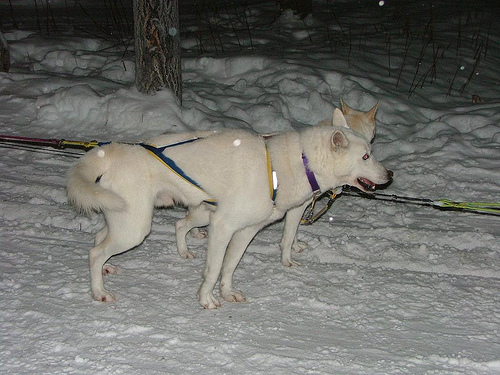dog: (64, 103, 394, 306), (174, 99, 380, 270)
